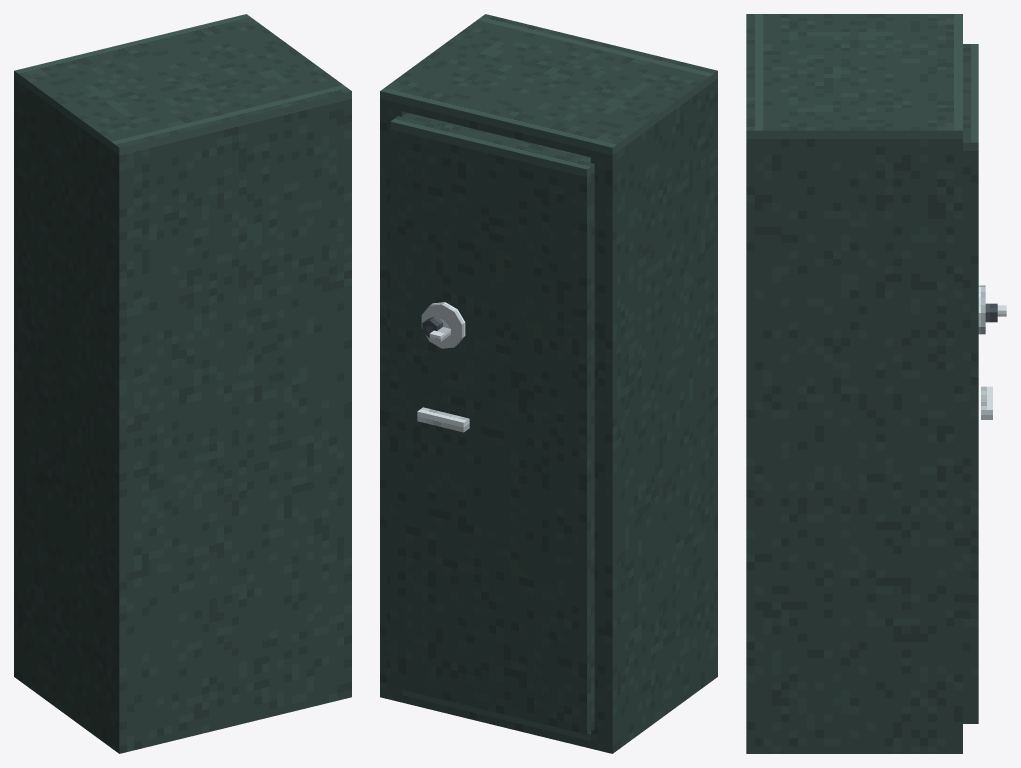
The model's file is f_gunsafe_mj.glb.
3 views of the same model, side by side, from view 1: azimuth 30°, elevation 25°; view 2: azimuth 150°, elevation 25°; view 3: azimuth 270°, elevation 25° (orthographic). The views are drawn at different scales.
Parts seen in each view (by area): view 1: block_back, block_side--0.29500000000000004, block_shelf-1, block_side-0.29500000000000004; view 2: block_armored-door, block_side--0.29500000000000004, block_shelf-1, block_side-0.29500000000000004, block_back, block_shelf-0, block_numbered-dial-ring, block_handle; view 3: block_side-0.29500000000000004, block_shelf-1, block_back, block_armored-door, block_side--0.29500000000000004.
Boxes of the visible parts, x1=… form: block_back: x1=111, y1=85, x2=351, y2=753; block_side--0.29500000000000004: x1=14, y1=65, x2=132, y2=747; block_shelf-1: x1=36, y1=19, x2=321, y2=136; block_side-0.29500000000000004: x1=225, y1=14, x2=342, y2=90; block_armored-door: x1=390, y1=112, x2=594, y2=734; block_side--0.29500000000000004: x1=591, y1=71, x2=709, y2=753; block_shelf-1: x1=401, y1=25, x2=687, y2=157; block_side-0.29500000000000004: x1=380, y1=20, x2=497, y2=702; block_back: x1=477, y1=14, x2=717, y2=682; block_shelf-0: x1=401, y1=689, x2=590, y2=748; block_numbered-dial-ring: x1=421, y1=302, x2=465, y2=348; block_handle: x1=417, y1=407, x2=469, y2=432; block_side-0.29500000000000004: x1=763, y1=120, x2=962, y2=753; block_shelf-1: x1=763, y1=24, x2=962, y2=119; block_back: x1=746, y1=14, x2=763, y2=753; block_armored-door: x1=963, y1=44, x2=978, y2=723; block_side--0.29500000000000004: x1=763, y1=14, x2=962, y2=24.
Bounding box in the file's own units: 0.65 × 1.62 × 0.613.
Materials: 1 (1 with a texture image).
